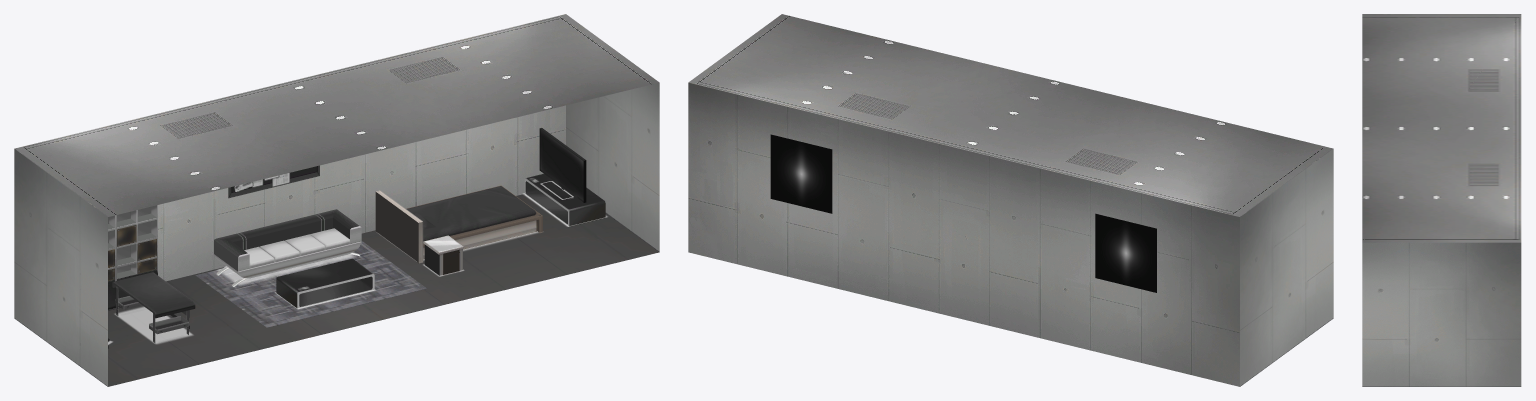
3 views of the same model, side by side, from view 1: azimuth 30°, elevation 25°; view 2: azimuth 150°, elevation 25°; view 3: azimuth 270°, elevation 25° (orthographic). The views are drawn at different scales.
Visible parts, largest first — view 1: ROOM_room, ROOM_floor, furni_s1_bed_01, furni_s1_sofa_01, furni_s1_carpet_01, furni_s1_bookcase_01, furni_s1_coffeetable_01, furni_s1_comdesk_01, furni_s1_tv_01, furni_s1_tvtable_01, ROOM_LDoor, ROOM_RDoor (+4 smaller); view 2: ROOM_room, light.001, light, ROOM_LDoor; view 3: ROOM_room, ROOM_RDoor.
Part boxes in pixels (x1,y1,x2,y2): ROOM_room: (14, 14, 659, 386); ROOM_floor: (108, 194, 659, 386); furni_s1_bed_01: (375, 185, 542, 263); furni_s1_sofa_01: (214, 209, 361, 286); furni_s1_carpet_01: (195, 241, 426, 327); furni_s1_bookcase_01: (108, 205, 157, 310); furni_s1_coffeetable_01: (276, 258, 374, 308); furni_s1_comdesk_01: (112, 272, 195, 343); furni_s1_tv_01: (539, 128, 586, 202); furni_s1_tvtable_01: (524, 173, 605, 226); ROOM_LDoor: (75, 286, 94, 376); ROOM_RDoor: (626, 151, 645, 241); ROOM_room: (688, 14, 1333, 386); light.001: (770, 134, 832, 213); light: (1095, 213, 1156, 292); ROOM_LDoor: (1300, 251, 1319, 341); ROOM_room: (1362, 14, 1521, 386); ROOM_RDoor: (1385, 321, 1418, 386).
Bounding box in the file's own units: 7.48 × 2.2 × 2.21.
5 materials, 5 textured.
